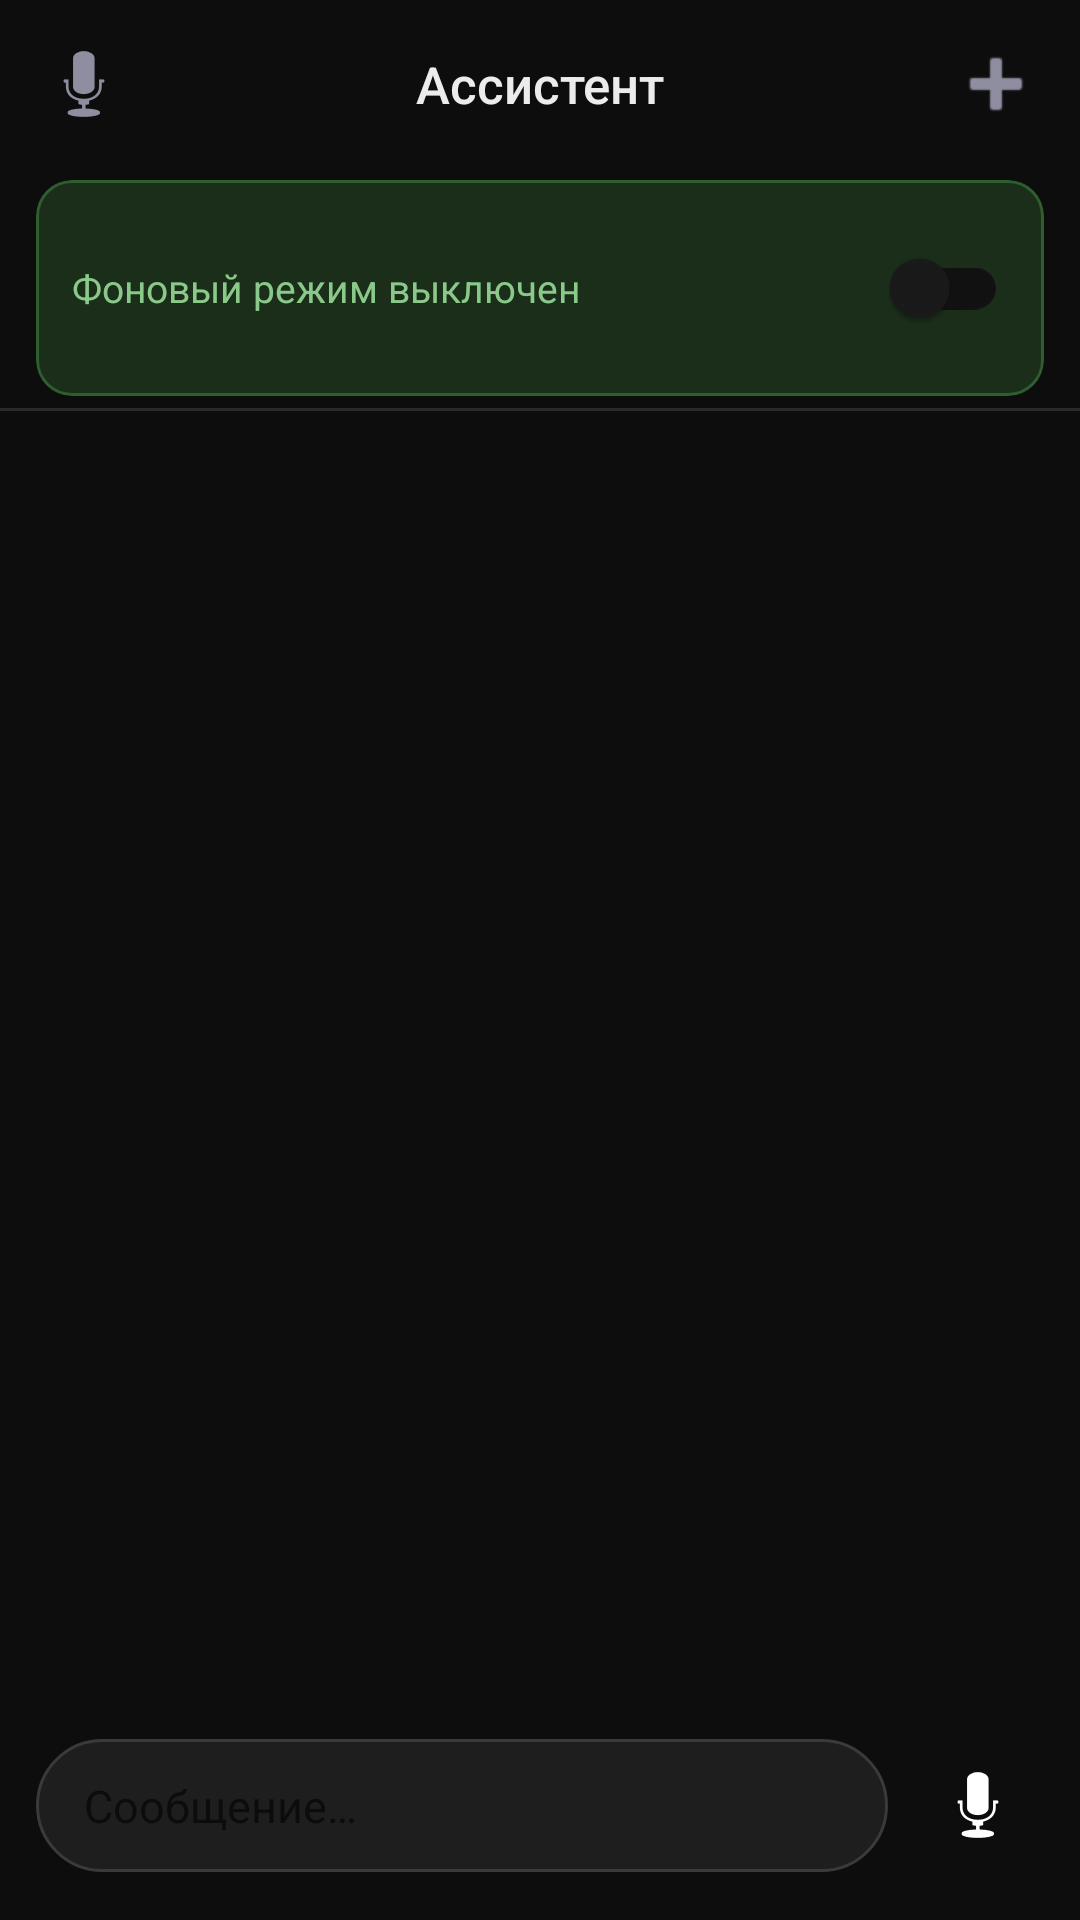

Where to tap for icons on this 1080 × 1920 app screen, as point (x, y):
Выбор голоса: point (84, 84)
Новый чат: point (996, 84)
